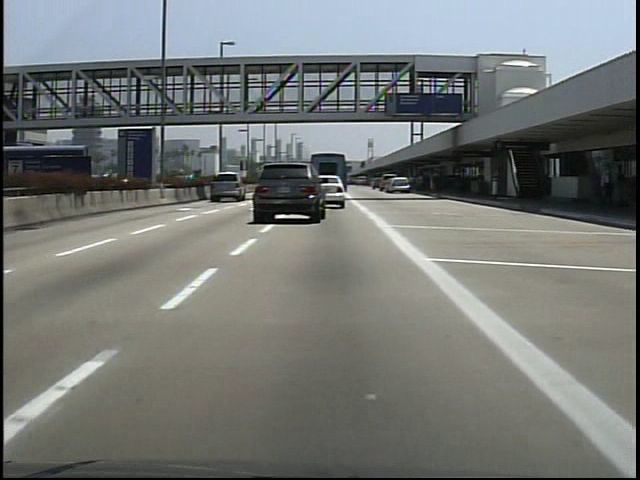person: (595, 165, 616, 212)
